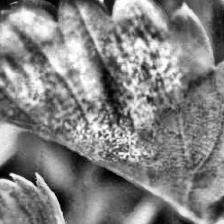Powdery Mildew Leaf: (0, 0, 224, 219)
